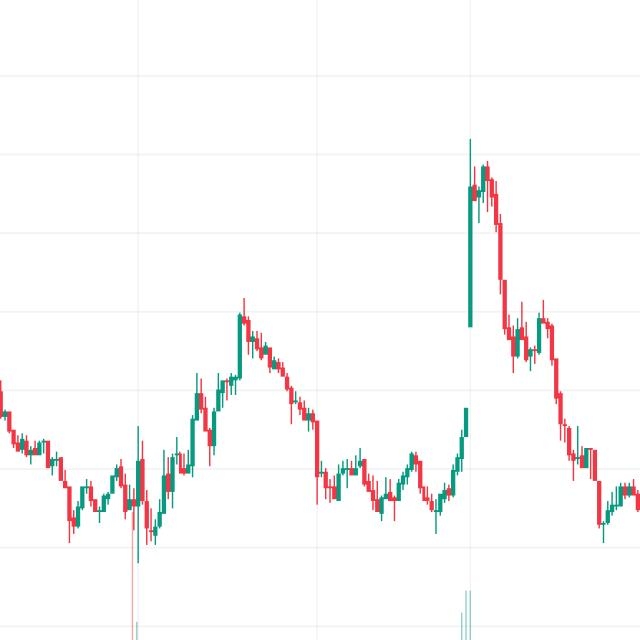Triple-Bottom: (298, 426, 477, 529)
